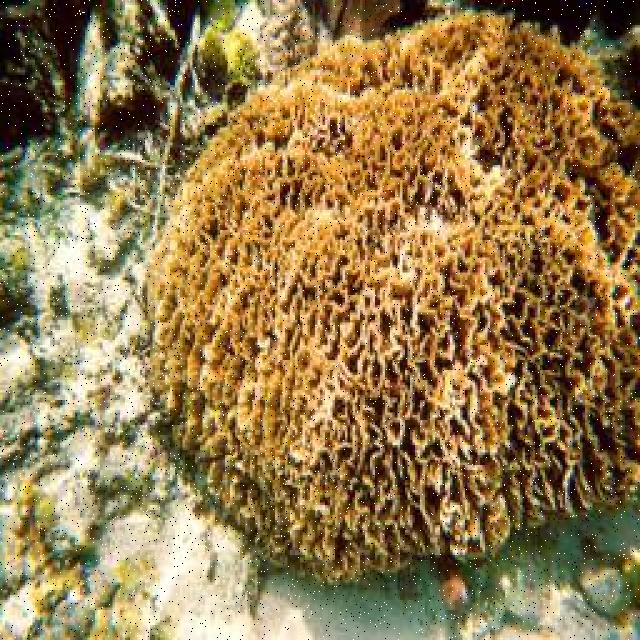reefs: (144, 11, 638, 582)
